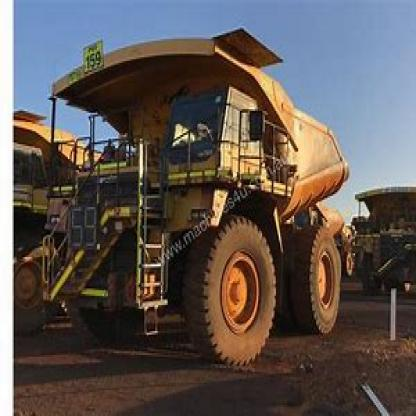dump_truck: (37, 22, 348, 364)
